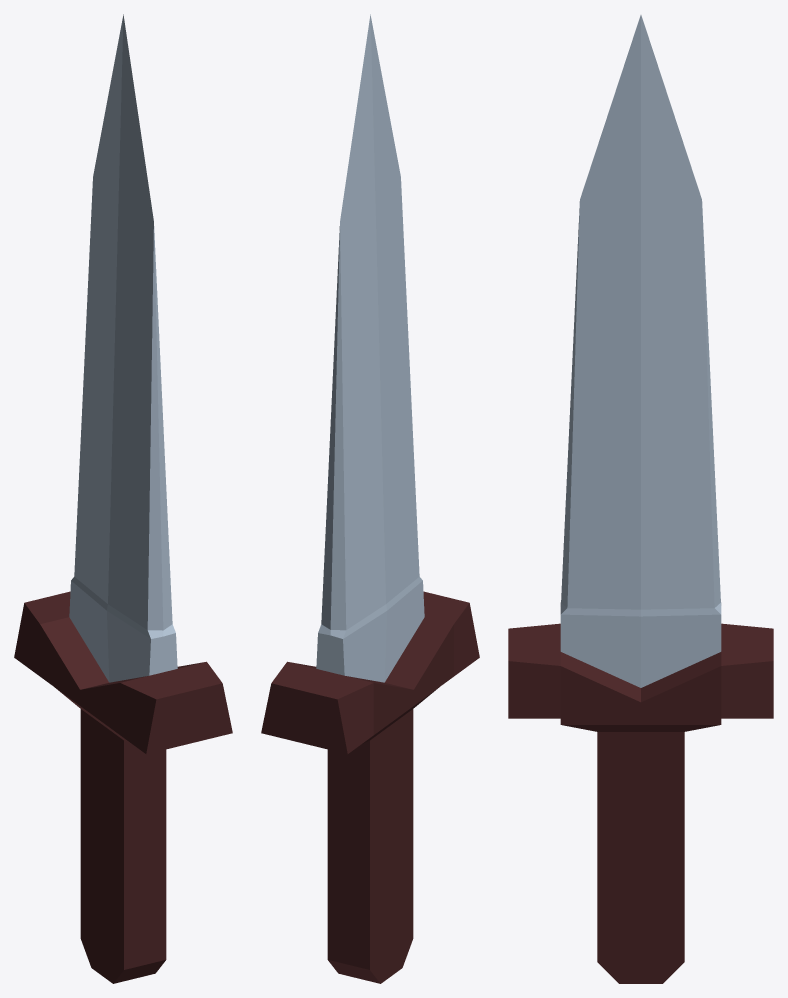
Rendered from Weapon_Sword.fbx.
3 renders of one model, left to right at view 1: azimuth 30°, elevation 25°; view 2: azimuth 150°, elevation 25°; view 3: azimuth 270°, elevation 25°, orthographic.
Parts seen in each view (by area): view 1: Sword; view 2: Sword; view 3: Sword.
Boxes of the visible parts, x1,y1,x2,y2 form: Sword: (14, 14, 232, 983); Sword: (261, 14, 479, 983); Sword: (508, 15, 773, 983).
Bounding box in the file's own units: 19.46 × 205 × 51.38.
